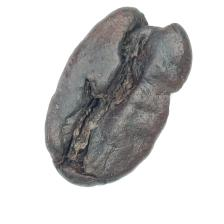NG: (45, 69, 146, 184), (113, 4, 186, 108)
